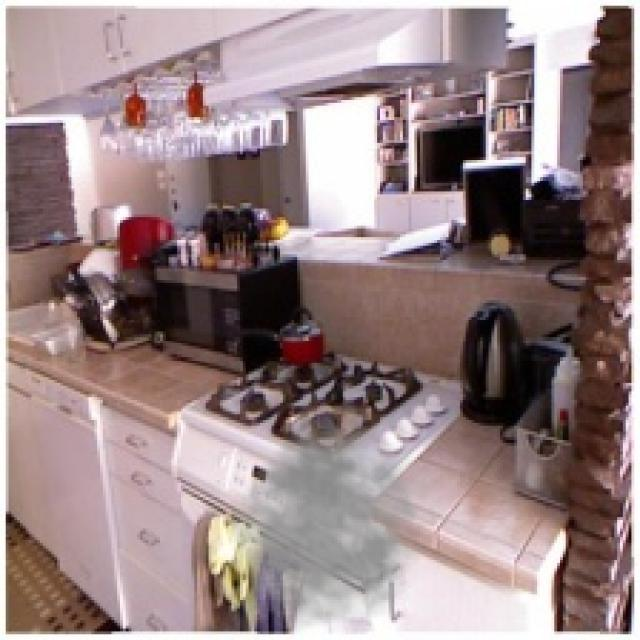smoke: (228, 406, 443, 634)
